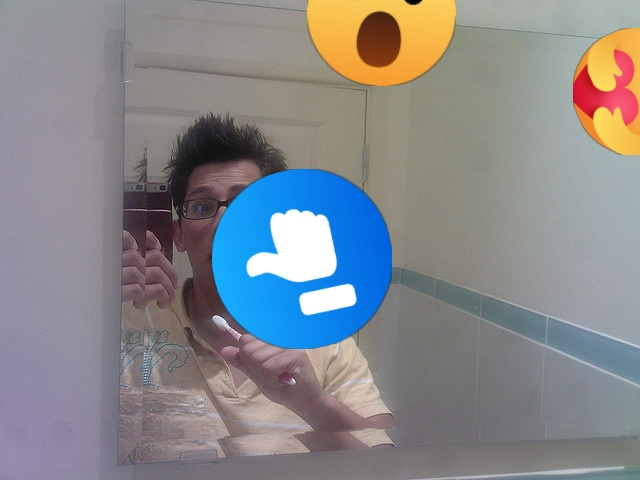care: (573, 28, 640, 155)
like: (212, 169, 392, 349)
wow: (307, 0, 456, 86)
